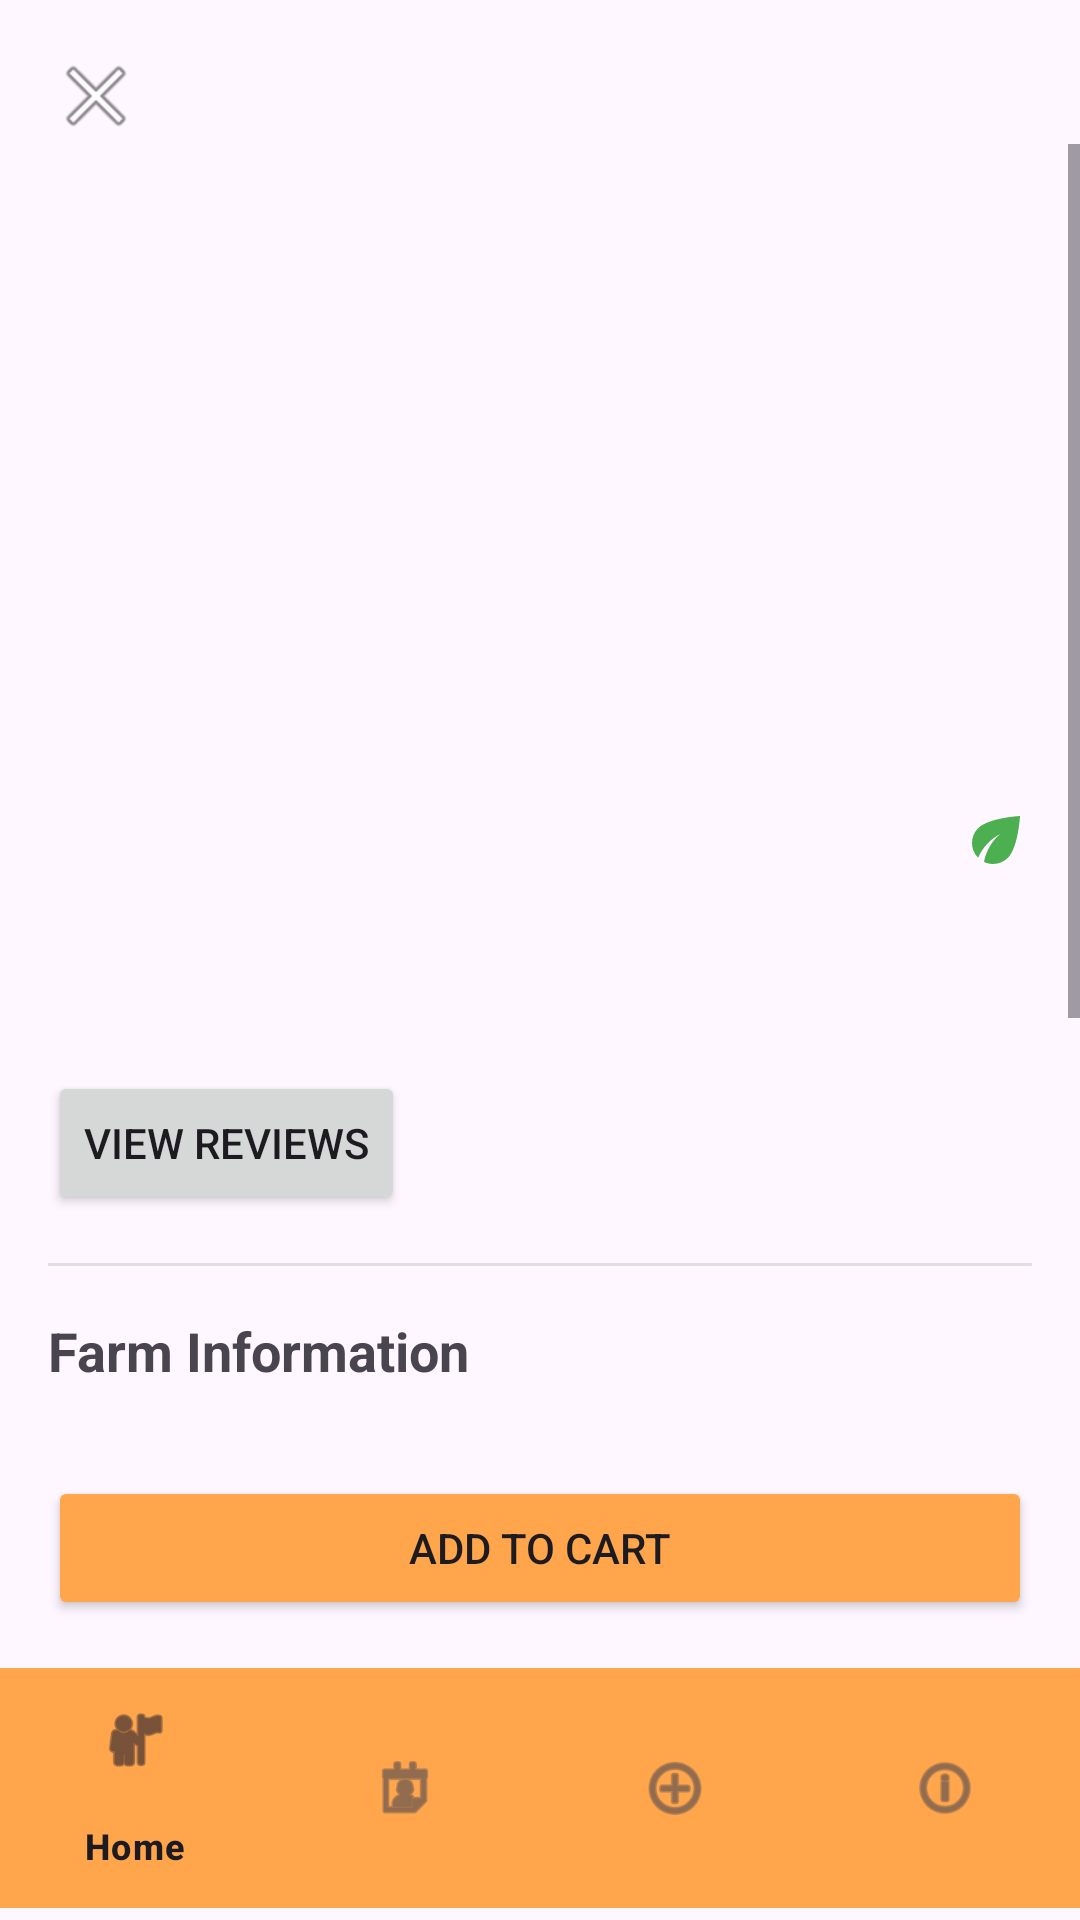

Icon click points for this 1080 x 1920 phone screenshot, format (x,y):
Back: (96,96)
Organic: (996,840)
